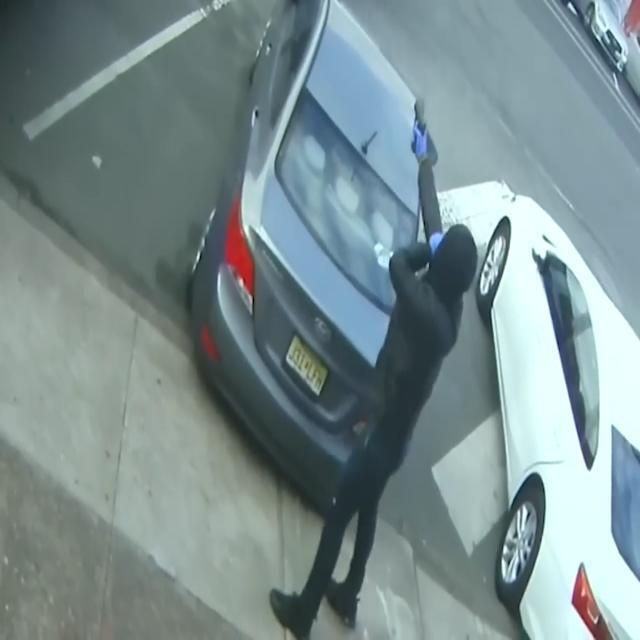Handgun: (409, 96, 431, 166)
